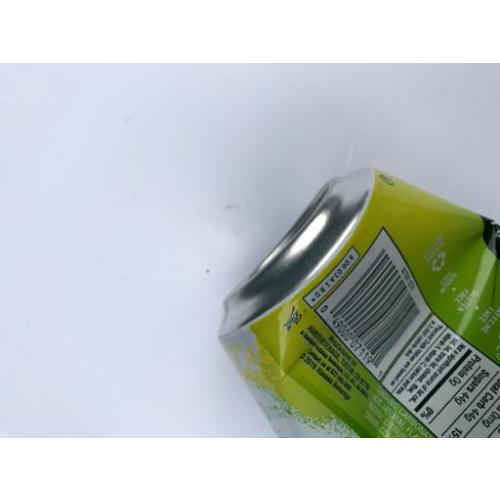metal: (217, 169, 499, 434)
